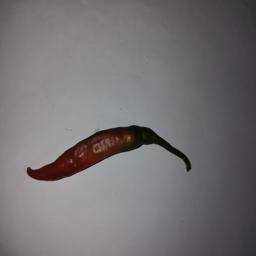Buah Cabai Sehat: (25, 123, 159, 182)
